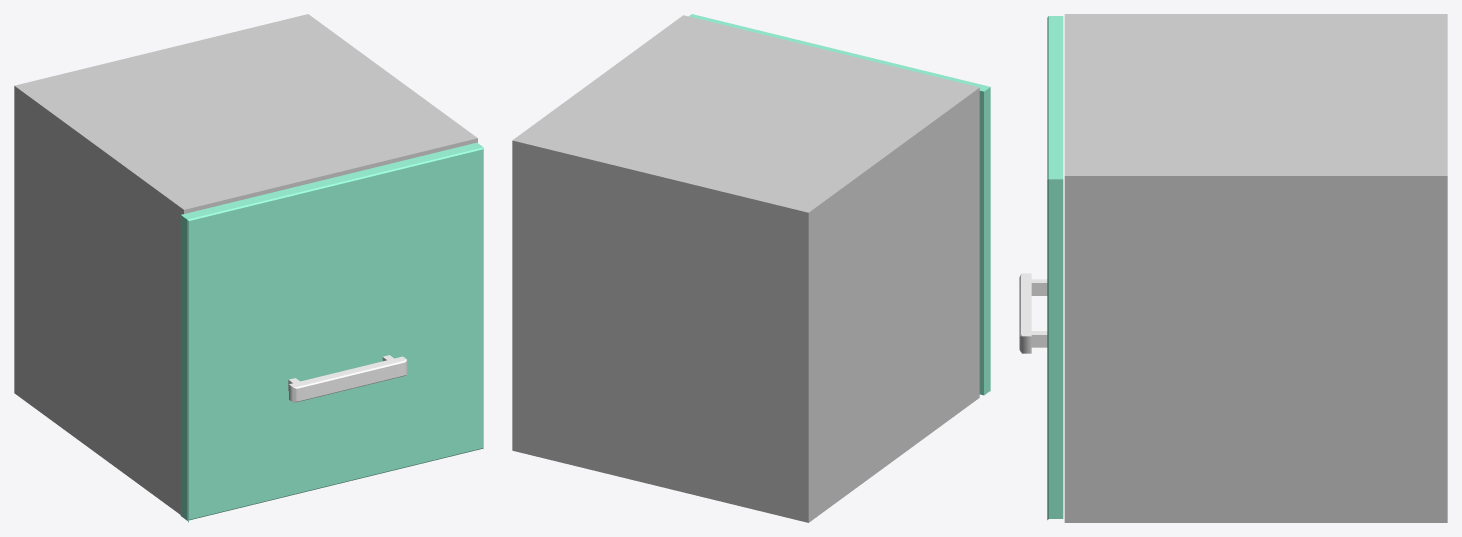
File: locker.fbx
3 views of the same model, side by side, from view 1: azimuth 30°, elevation 25°; view 2: azimuth 150°, elevation 25°; view 3: azimuth 270°, elevation 25° (orthographic). The views are drawn at different scales.
Visible parts, largest first — view 1: Locker, LockerDoor; view 2: Locker, LockerDoor; view 3: Locker, LockerDoor.
Part boxes in pixels (x1=…): Locker: x1=14, y1=14, x2=477, y2=514; LockerDoor: x1=180, y1=142, x2=483, y2=522; Locker: x1=512, y1=15, x2=979, y2=522; LockerDoor: x1=689, y1=14, x2=990, y2=395; Locker: x1=1064, y1=14, x2=1447, y2=522; LockerDoor: x1=1019, y1=16, x2=1063, y2=519.
Size of the model in its own units: 1.01 by 1 by 1.12.
